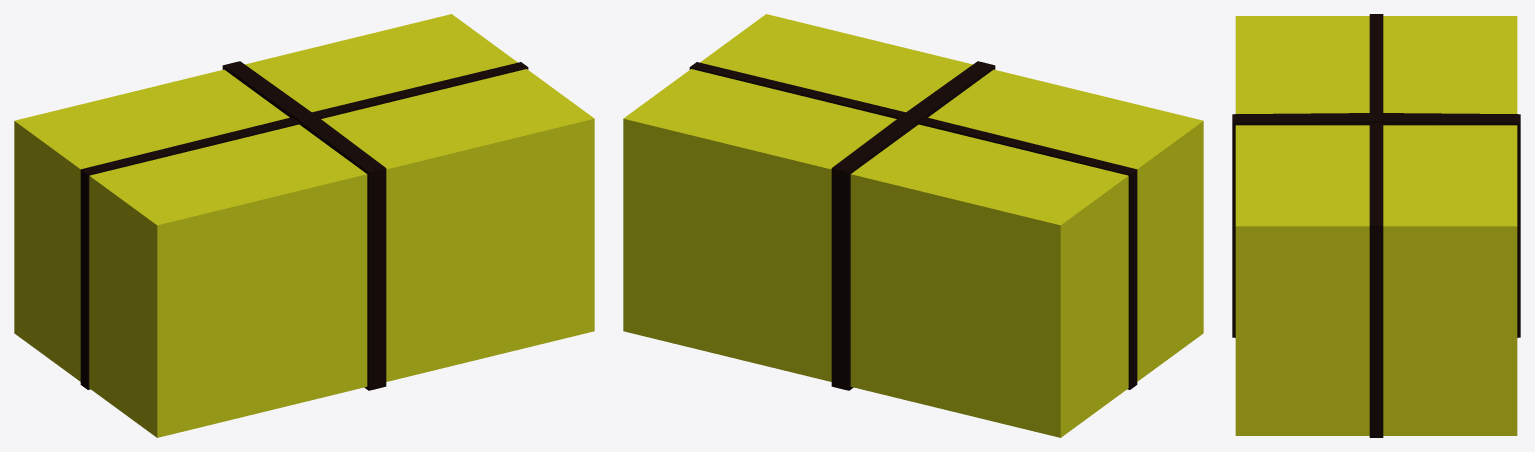
File: jeden snopek słomy.FBX
3 renders of one model, left to right at view 1: azimuth 30°, elevation 25°; view 2: azimuth 150°, elevation 25°; view 3: azimuth 270°, elevation 25°, orthographic.
Parts seen in each view (by area): view 1: Box572; view 2: Box572; view 3: Box572.
Boxes of the visible parts, <box> form: Box572: <box>14,14,594,437</box>; Box572: <box>623,14,1203,437</box>; Box572: <box>1232,14,1520,437</box>.
Bounding box in the file's own units: 22.19 × 10.64 × 12.77.
